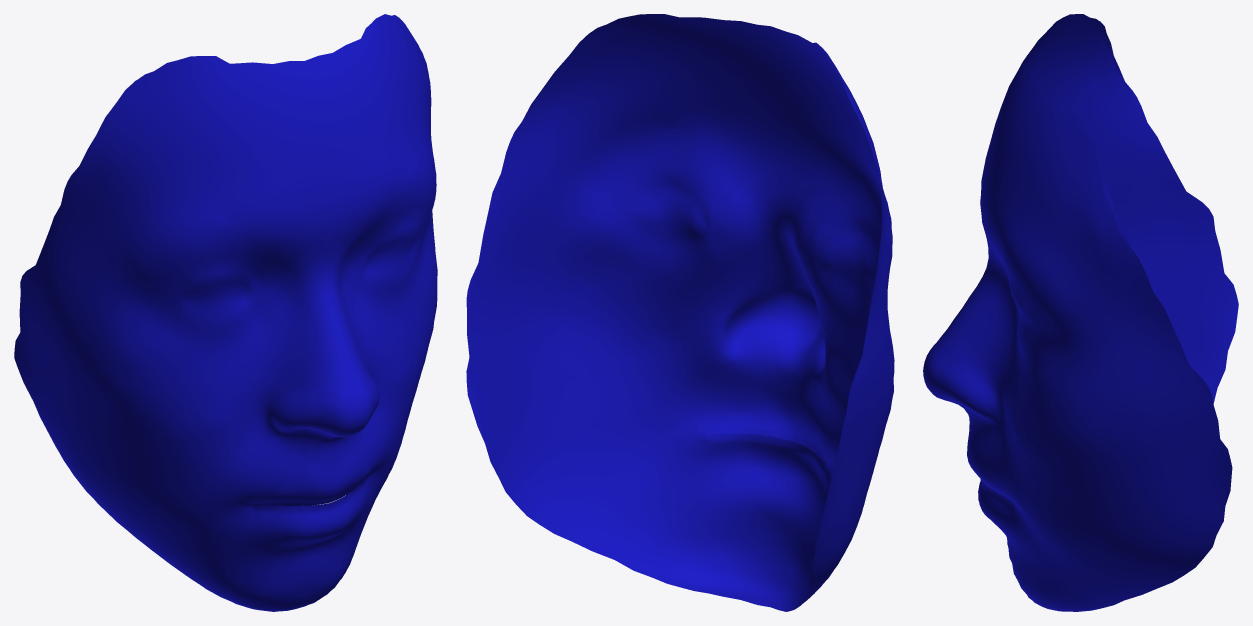
File: deformed_mesh.obj
The picture shows the model from 3 angles, left to right: view 1: azimuth 30°, elevation 25°; view 2: azimuth 150°, elevation 25°; view 3: azimuth 270°, elevation 25°; orthographic projection. The views are drawn at different scales.
Size of the model in its own units: 140 by 200 by 105.
